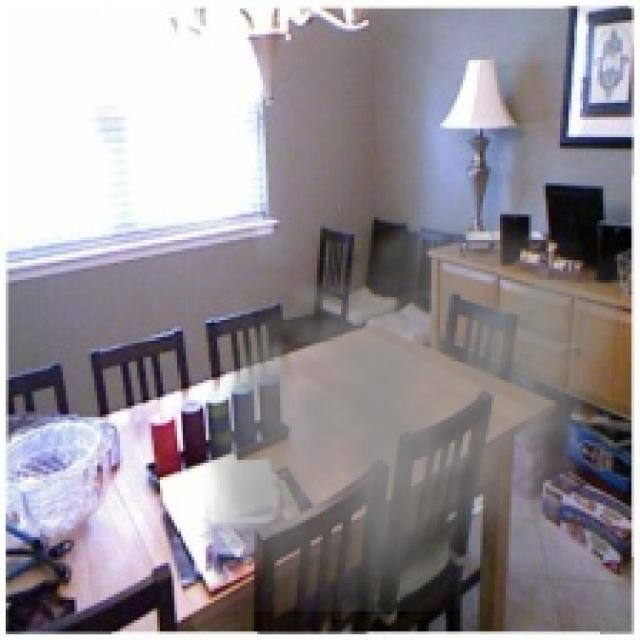smoke: (203, 186, 623, 611)
